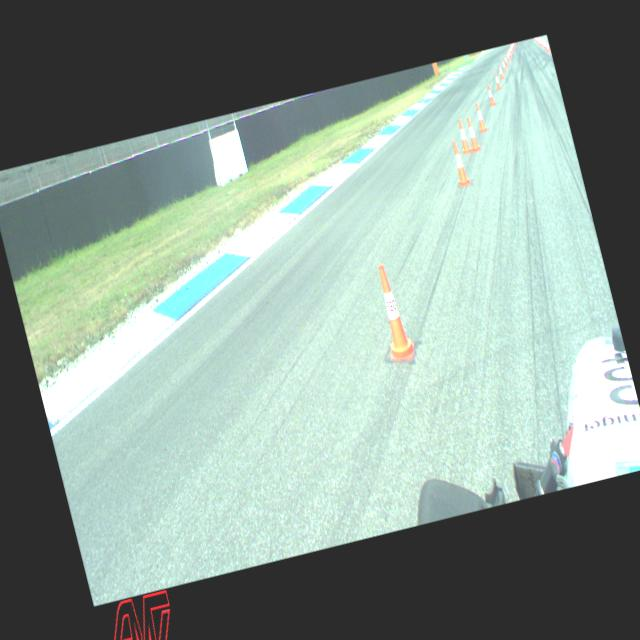orange_cone: (369, 262, 417, 362), (448, 140, 471, 186), (464, 116, 481, 150), (455, 118, 471, 153), (473, 102, 487, 132), (485, 82, 496, 104), (492, 70, 501, 88), (497, 64, 504, 78), (545, 42, 551, 54), (501, 58, 506, 71), (503, 54, 508, 66), (505, 50, 510, 61), (542, 40, 546, 50), (541, 38, 545, 48), (507, 49, 511, 58), (538, 38, 542, 47), (536, 36, 540, 45)
